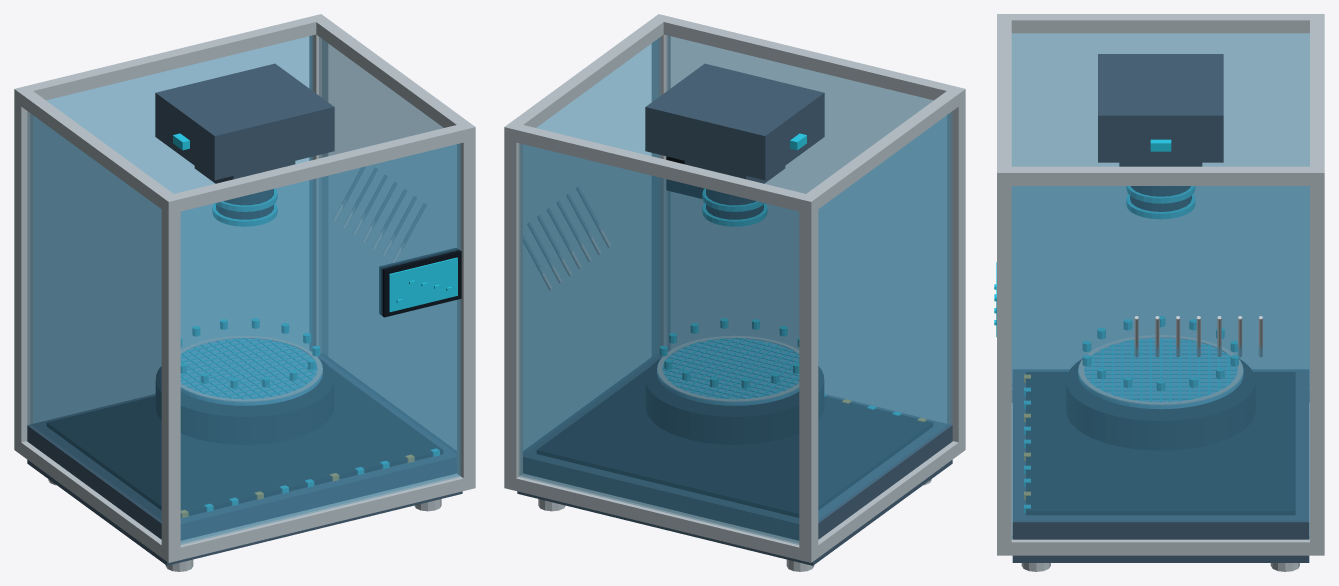
Rendered from 48_L79_ScanningAcousticVoidInspector.fbx.
3 views of the same model, side by side, from view 1: azimuth 30°, elevation 25°; view 2: azimuth 150°, elevation 25°; view 3: azimuth 270°, elevation 25° (orthographic). The views are drawn at different scales.
Visible parts, largest first — view 1: ScanningAcousticVoidInspector; view 2: ScanningAcousticVoidInspector; view 3: ScanningAcousticVoidInspector, ScanningAcousticVoidInspector_Part_0110, ScanningAcousticVoidInspector_Part_0111, ScanningAcousticVoidInspector_Part_0106, ScanningAcousticVoidInspector_Part_0105.
Boxes of the visible parts, x1=… form: ScanningAcousticVoidInspector: x1=14, y1=14, x2=475, y2=571; ScanningAcousticVoidInspector: x1=504, y1=14, x2=965, y2=571; ScanningAcousticVoidInspector: x1=994, y1=14, x2=1324, y2=571; ScanningAcousticVoidInspector_Part_0110: x1=1130, y1=186, x2=1191, y2=211; ScanningAcousticVoidInspector_Part_0111: x1=1126, y1=195, x2=1194, y2=218; ScanningAcousticVoidInspector_Part_0106: x1=1126, y1=186, x2=1194, y2=203; ScanningAcousticVoidInspector_Part_0105: x1=1131, y1=186, x2=1190, y2=195.
Bounding box in the file's own units: 230 × 267 × 192.
